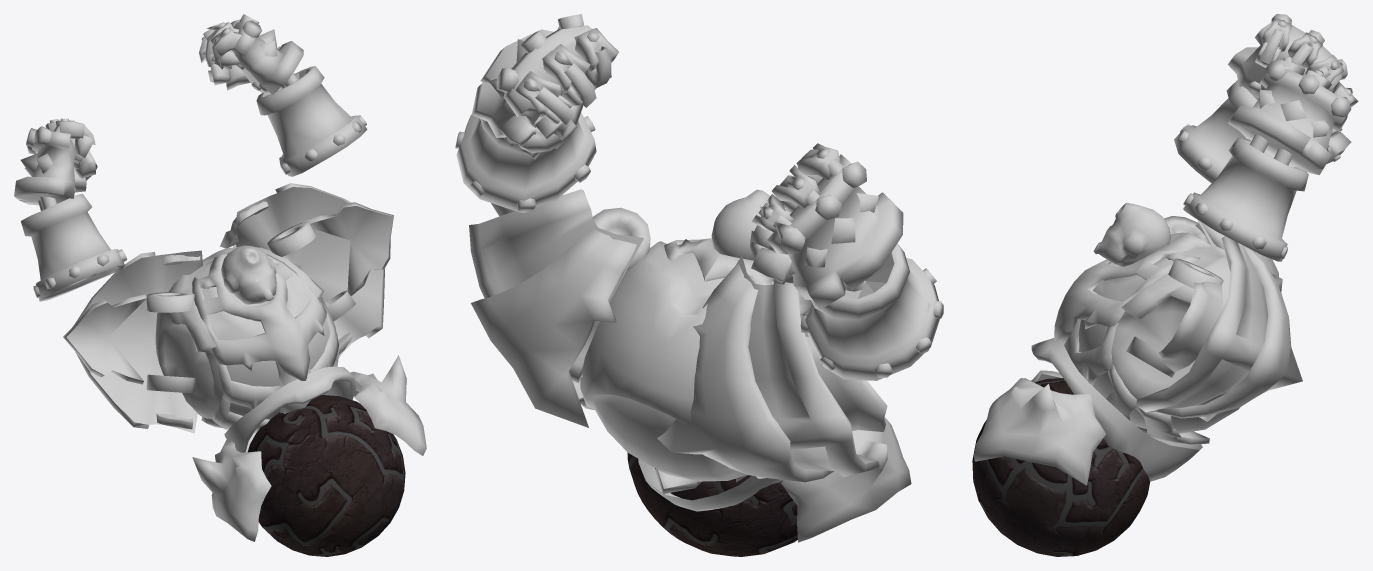
3 renders of one model, left to right at view 1: azimuth 30°, elevation 25°; view 2: azimuth 150°, elevation 25°; view 3: azimuth 270°, elevation 25°, orthographic. The views are drawn at different scales.
Parts seen in each view (by area): view 1: ironreaver01; view 2: ironreaver01; view 3: ironreaver01.
Part boxes in pixels (left/top/right/bottom): ironreaver01: left=14, top=14, right=426, bottom=556; ironreaver01: left=455, top=14, right=943, bottom=556; ironreaver01: left=972, top=14, right=1358, bottom=556.
Bounding box in the file's own units: 1.58 × 2 × 1.4.
